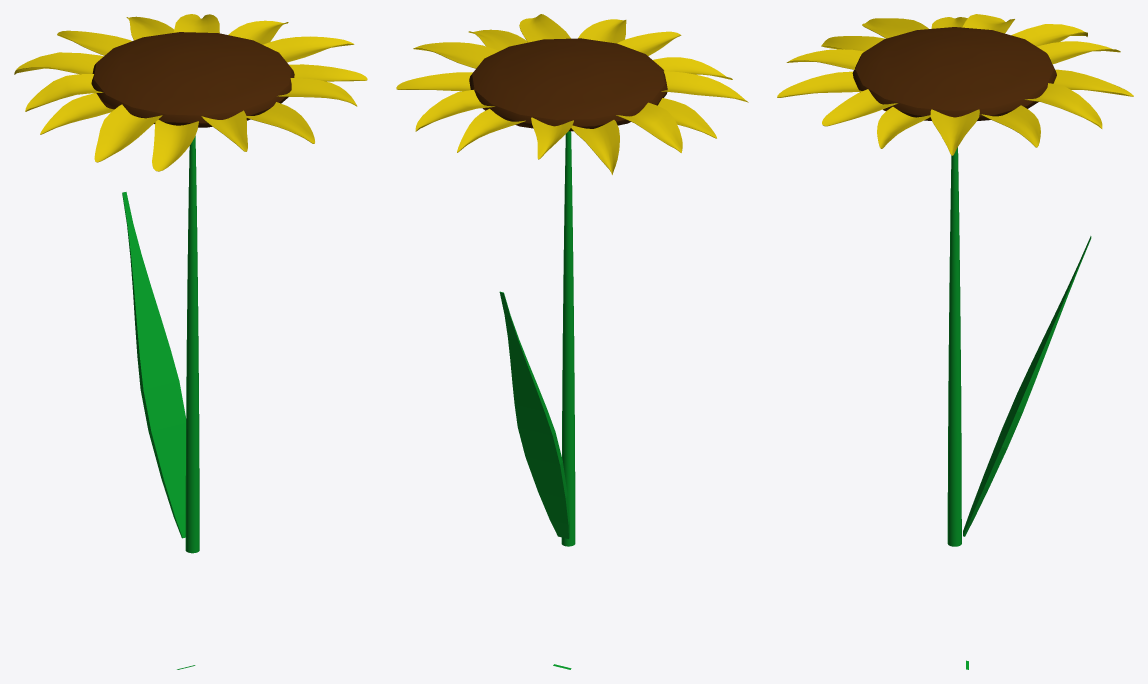
Rendered from Tournesol_Mesh.fbx.
3 views of the same model, side by side, from view 1: azimuth 30°, elevation 25°; view 2: azimuth 150°, elevation 25°; view 3: azimuth 270°, elevation 25° (orthographic). The views are drawn at different scales.
Parts seen in each view (by area): view 1: Sunflower.001; view 2: Sunflower.001; view 3: Sunflower.001.
Boxes of the visible parts, x1,y1,x2,y2 form: Sunflower.001: (14, 14, 367, 669); Sunflower.001: (396, 14, 748, 669); Sunflower.001: (777, 14, 1133, 669).
Bounding box in the file's own units: 125 × 233 × 124.
